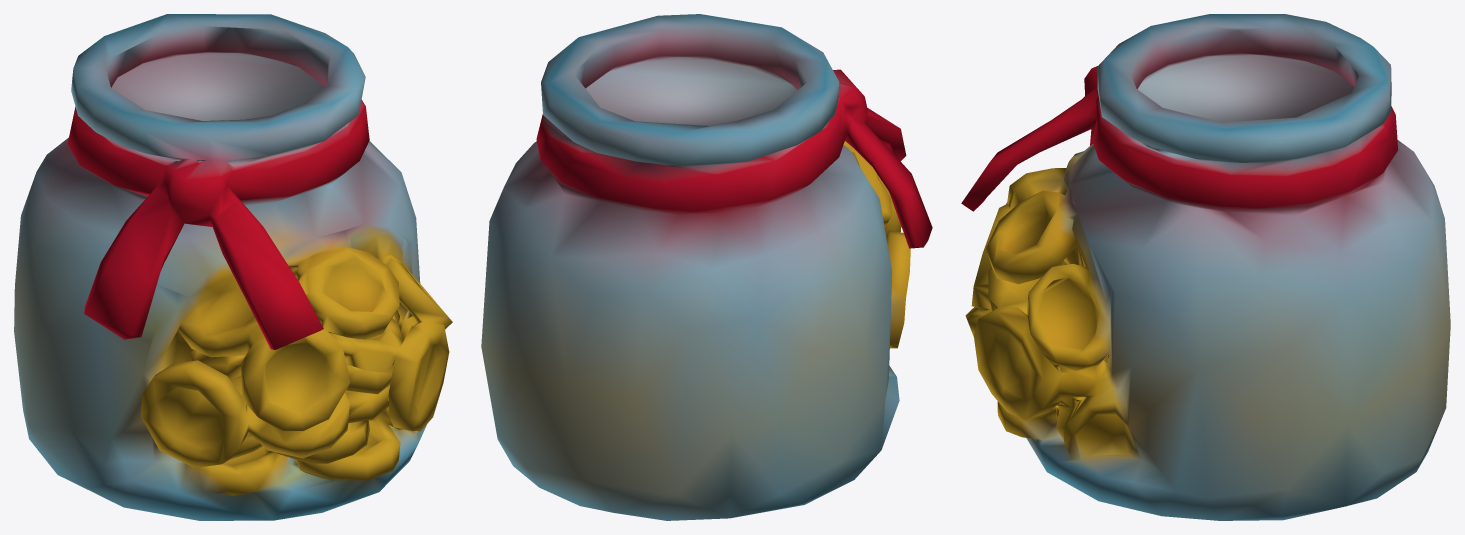
File: meshy-tipjar.glb
3 renders of one model, left to right at view 1: azimuth 30°, elevation 25°; view 2: azimuth 150°, elevation 25°; view 3: azimuth 270°, elevation 25°, orthographic.
Visible parts, largest first — view 1: Mesh_0; view 2: Mesh_0; view 3: Mesh_0.
Boxes of the visible parts, x1,y1,x2,y2 form: Mesh_0: (14, 14, 452, 520); Mesh_0: (481, 14, 932, 520); Mesh_0: (961, 14, 1450, 520).
Bounding box in the file's own units: 1.65 × 1.61 × 1.91.
